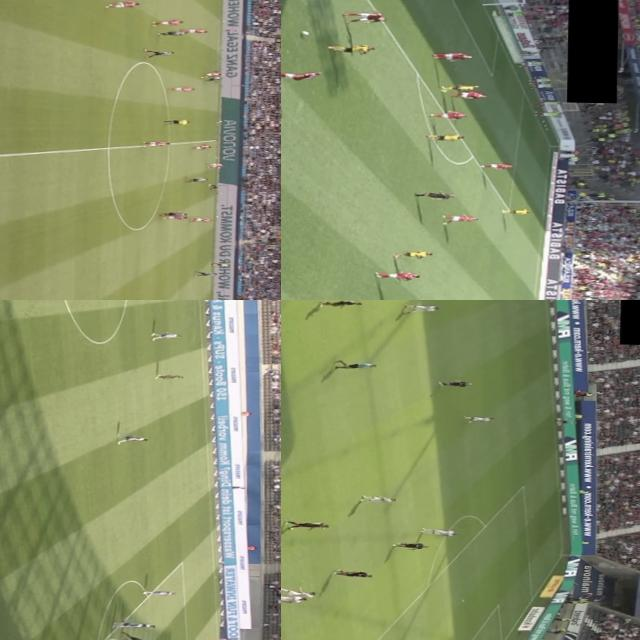ball: (299, 28, 311, 34), (207, 182, 214, 184)
player: (281, 585, 322, 600), (372, 268, 421, 280), (336, 566, 376, 580), (324, 41, 374, 52), (394, 538, 434, 550), (420, 524, 460, 536), (341, 11, 387, 21), (150, 15, 191, 26), (281, 518, 331, 527), (178, 22, 210, 36), (316, 300, 370, 308), (146, 46, 178, 59), (281, 69, 327, 78), (437, 213, 483, 222), (114, 432, 150, 443), (392, 249, 434, 258), (402, 302, 444, 311), (156, 28, 192, 38), (436, 50, 476, 59), (150, 330, 186, 340), (436, 378, 472, 388), (119, 630, 153, 640), (442, 82, 483, 90), (452, 90, 493, 98), (478, 162, 516, 170), (431, 110, 468, 118), (104, 0, 140, 8), (138, 138, 174, 146), (122, 618, 158, 626), (361, 493, 393, 502), (191, 267, 219, 277), (190, 214, 217, 224), (168, 82, 200, 90), (281, 592, 304, 603), (498, 206, 534, 213), (429, 133, 464, 140), (112, 621, 146, 628), (154, 373, 188, 380), (140, 590, 178, 596), (464, 416, 500, 422), (165, 208, 189, 216), (190, 143, 212, 151), (184, 176, 211, 182), (207, 160, 230, 167), (202, 75, 228, 80), (200, 71, 224, 76), (113, 636, 143, 640), (166, 213, 188, 218), (220, 636, 244, 640), (207, 184, 228, 188)
